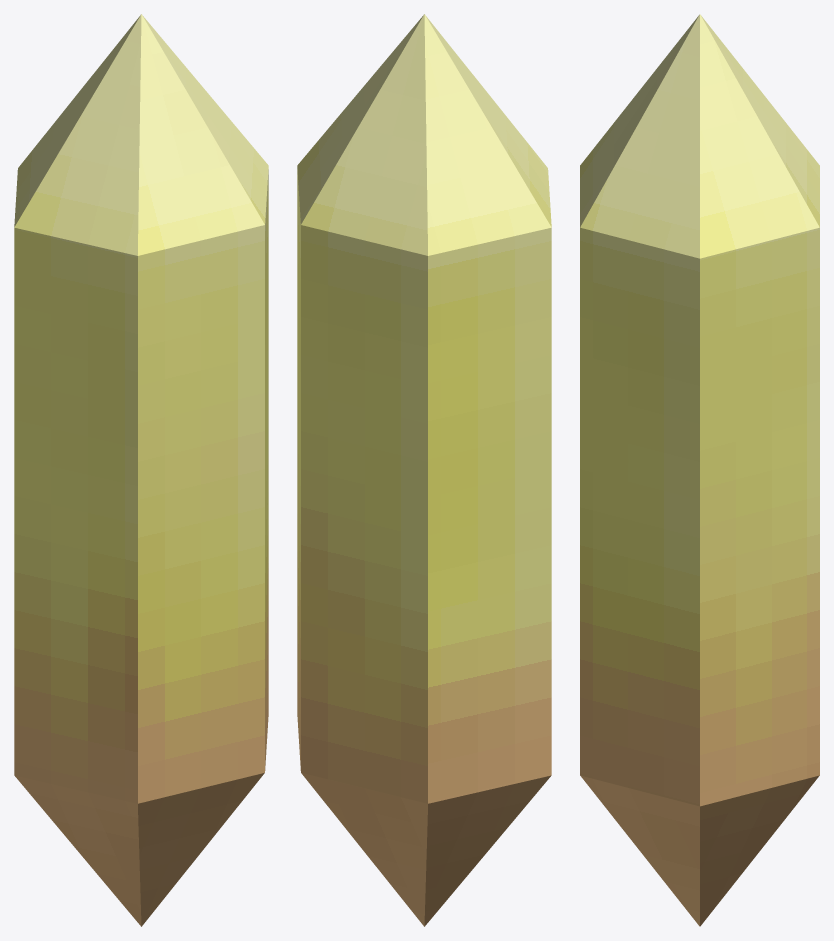
Rendered from crystal.obj.
The picture shows the model from 3 angles, left to right: view 1: azimuth 30°, elevation 25°; view 2: azimuth 150°, elevation 25°; view 3: azimuth 270°, elevation 25°; orthographic projection.
Visible parts, largest first — view 1: sphere; view 2: sphere; view 3: sphere.
Part boxes in pixels (box(x1,y1,x2,y2)): sphere: box(14, 14, 268, 926); sphere: box(297, 14, 551, 926); sphere: box(580, 14, 819, 926).
Bounding box in the file's own units: 0.2188 × 0.75 × 0.1785.
1 material, 1 textured.
